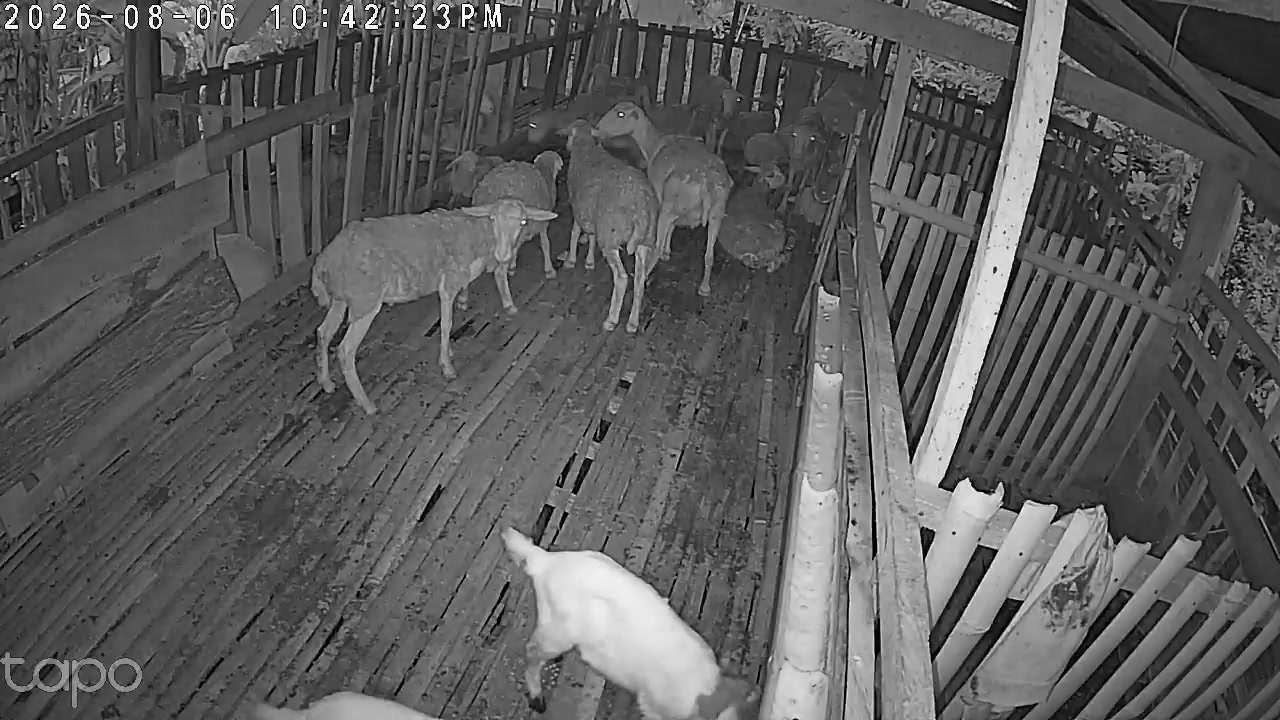goat: (470, 496, 690, 666)
sheep: (300, 185, 560, 415), (640, 144, 845, 329), (567, 120, 662, 335), (449, 148, 514, 198)
